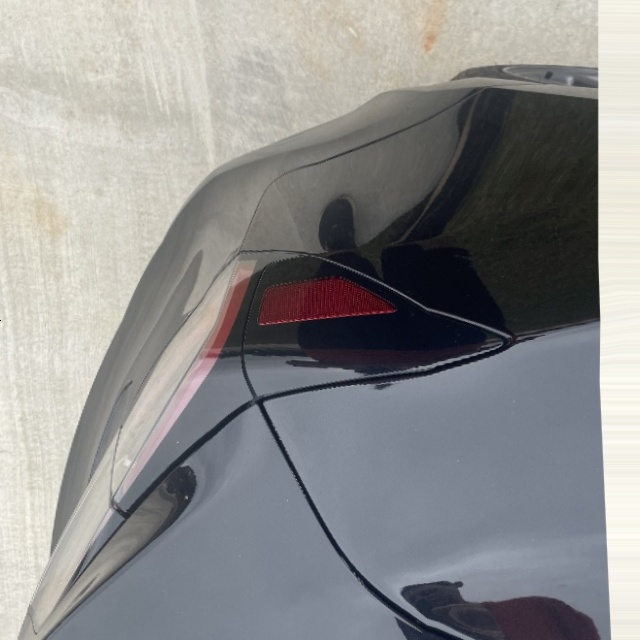reflector: (255, 271, 397, 333)
